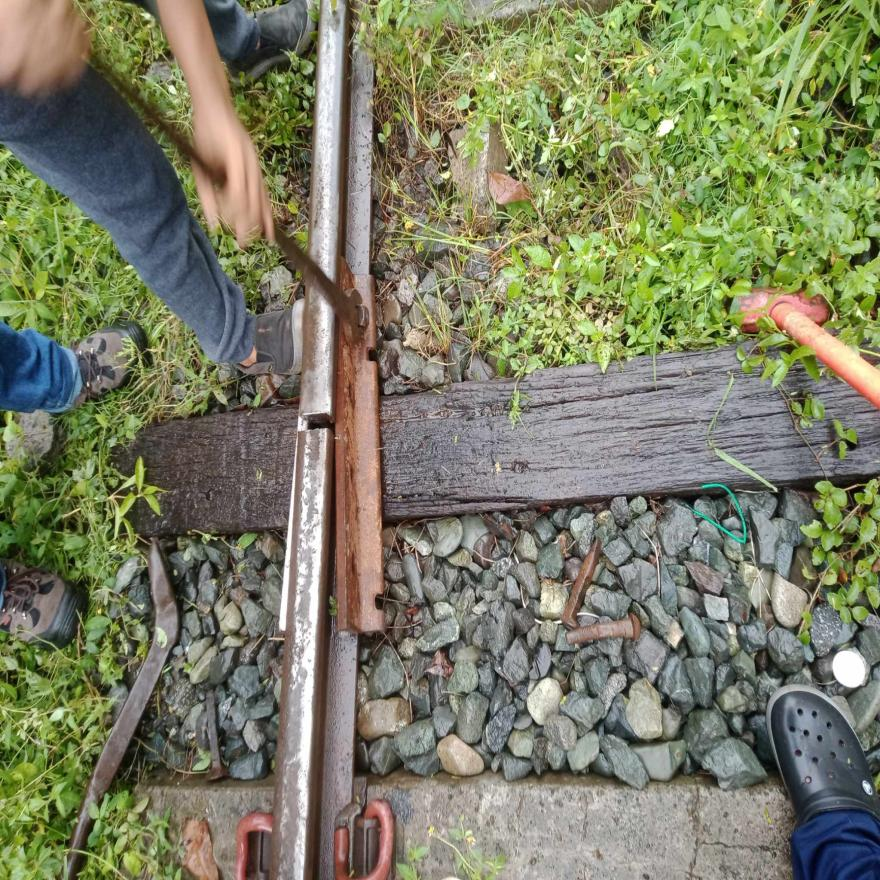railway-gap: (264, 358, 361, 490)
